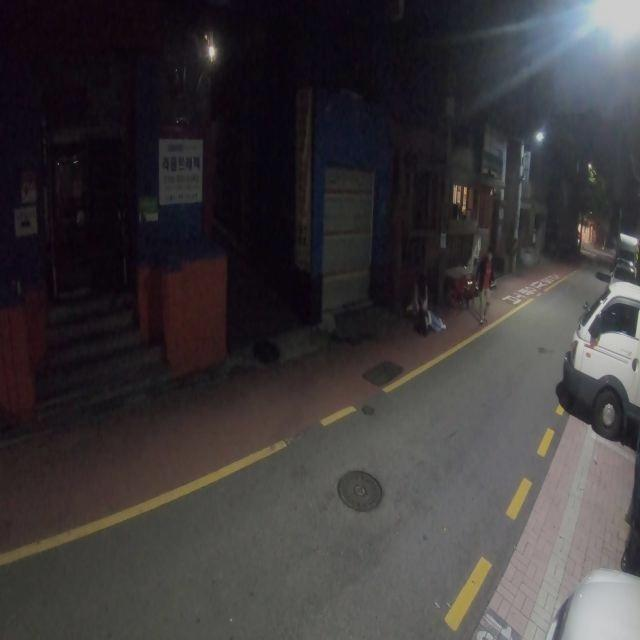fight: (406, 260, 446, 336)
non-fight: (472, 249, 496, 326)
